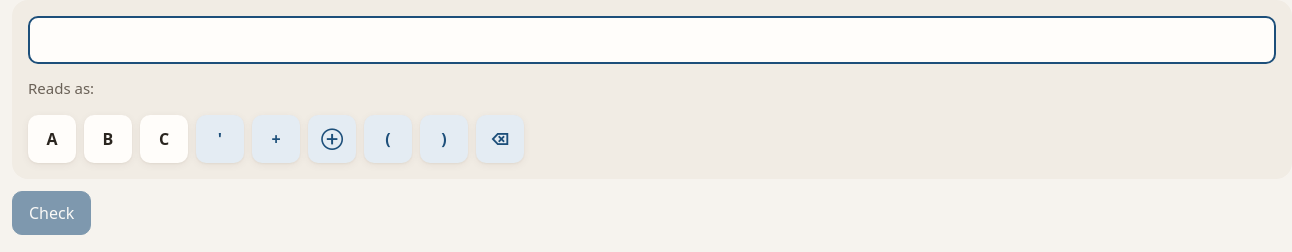
Test: ExpressionEntry › the key row inserts variables and operators at the cursor; delete removes one character
The image size is (1292, 252).
Click the button "A": (52, 139) [28,115,76,163]
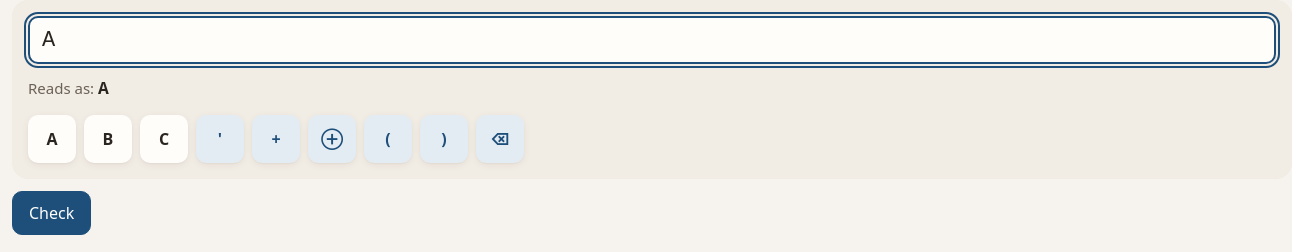
Click the button named "complement (NOT)": (220, 139) [196,115,244,163]
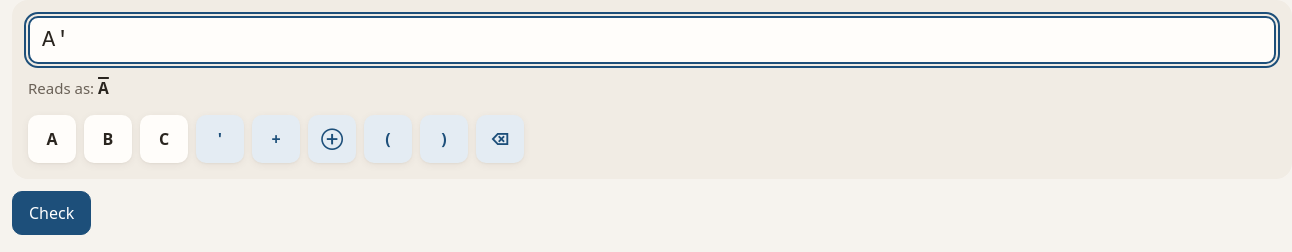
Click the button named "OR": (276, 139) [252,115,300,163]
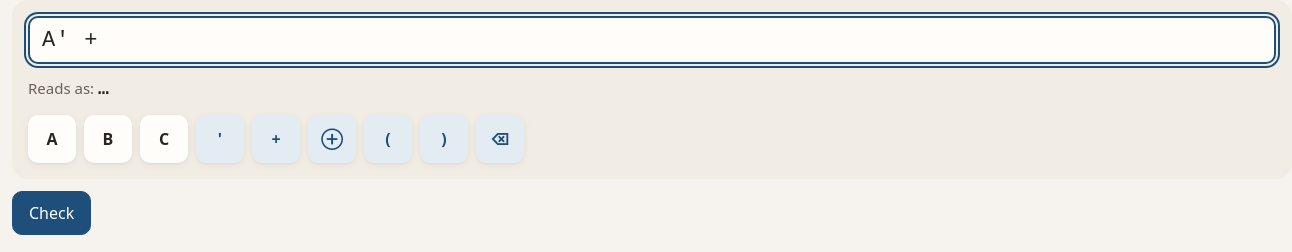
Click the button "B": (108, 139) [84,115,132,163]
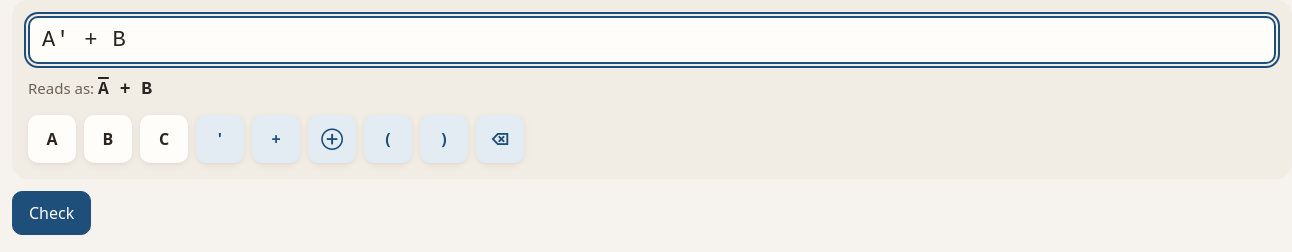
Result: the field named "Write F." holds "A' + B" at [28,16,1276,64]
Click the button named "delete": (500, 139) [476,115,524,163]
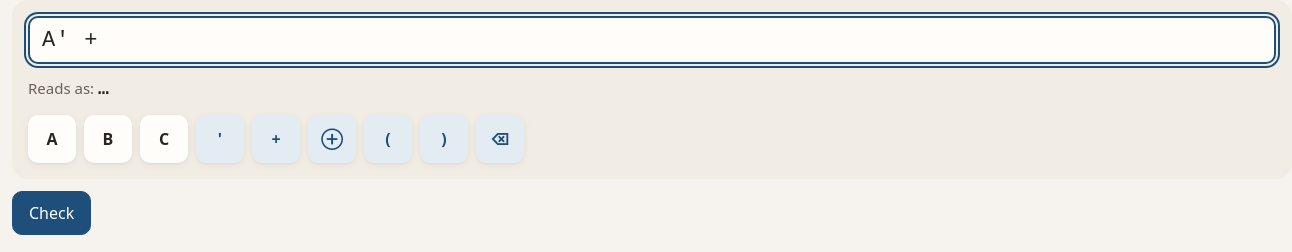
Result: the field named "Write F." holds "A' + " at [28,16,1276,64]
